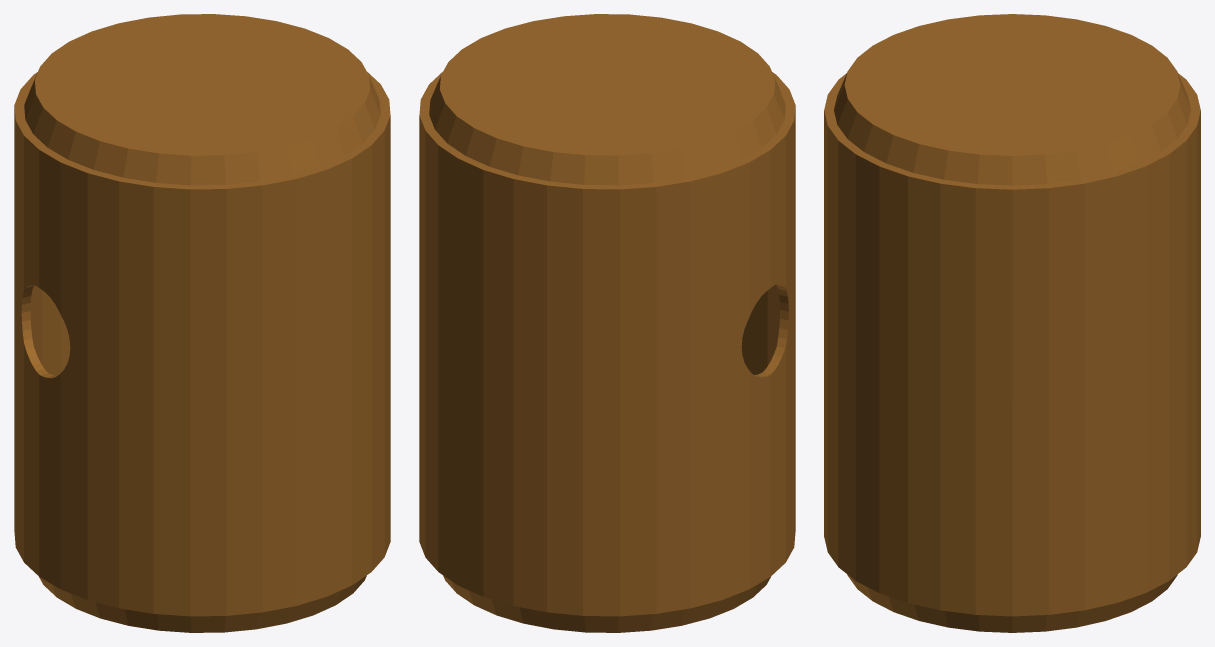
The model's file is Submarine_Body (1).fbx.
3 renders of one model, left to right at view 1: azimuth 30°, elevation 25°; view 2: azimuth 150°, elevation 25°; view 3: azimuth 270°, elevation 25°, orthographic.
Visible parts, largest first — view 1: Submarine_Body; view 2: Submarine_Body; view 3: Submarine_Body.
Boxes of the visible parts, <box> form: Submarine_Body: <box>14,14,390,632</box>; Submarine_Body: <box>419,14,795,632</box>; Submarine_Body: <box>824,14,1200,632</box>.
Bounding box in the file's own units: 200 × 279 × 200.
